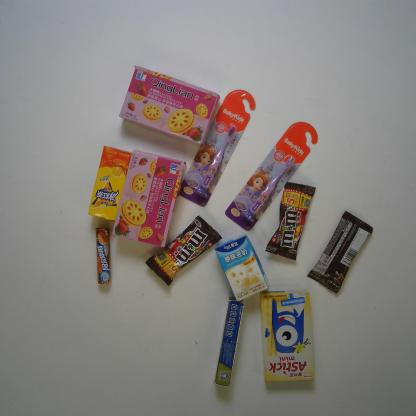Candy: (95, 226, 112, 285)
Chocolate: (306, 210, 375, 295), (143, 215, 223, 286), (264, 181, 316, 261)
Dessert: (118, 65, 220, 147), (110, 149, 187, 249), (259, 287, 314, 383)
Drink: (88, 146, 132, 222)
Milk: (214, 233, 270, 302)
Personal Hygiene: (224, 121, 319, 231), (178, 89, 256, 207), (213, 296, 245, 388)
